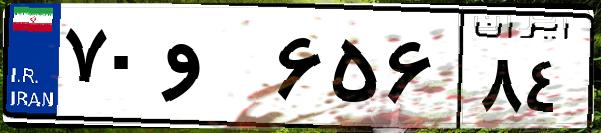0: (110, 28, 158, 98)
4: (525, 38, 570, 115)
5: (330, 28, 385, 110)
6: (270, 28, 330, 110), (385, 28, 445, 110)
7: (57, 26, 110, 100)
8: (475, 38, 525, 113)
و: (158, 20, 270, 120)
